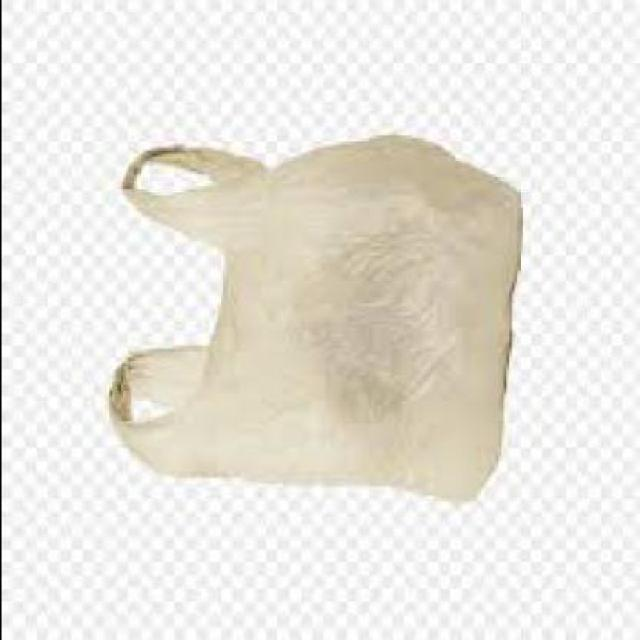PLASTIC: (105, 136, 518, 504)
